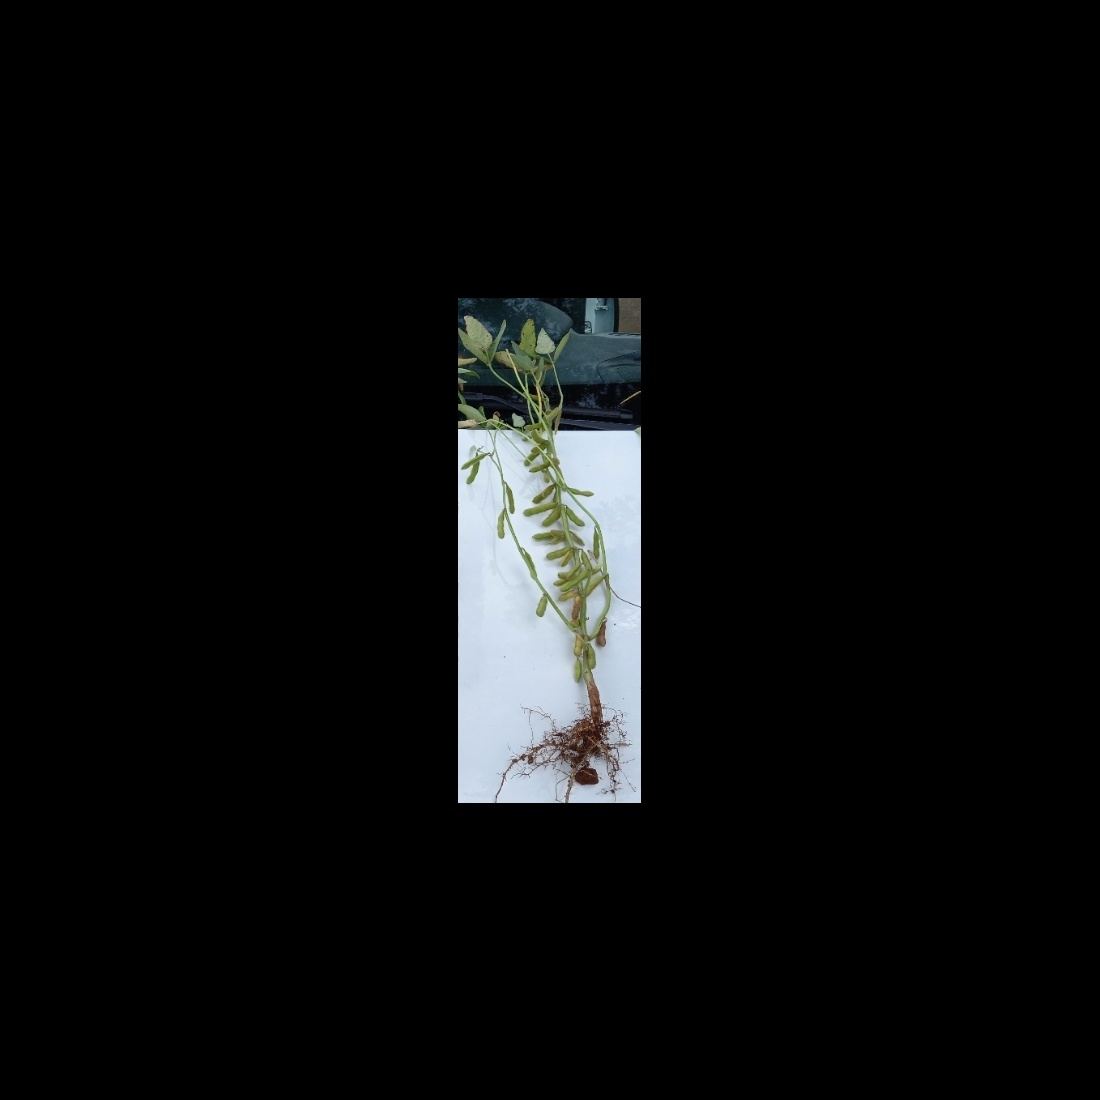pod: (558, 572, 588, 594), (564, 504, 587, 531), (531, 483, 555, 504), (522, 503, 559, 516), (530, 594, 549, 620), (493, 508, 507, 541), (544, 545, 569, 561), (589, 528, 601, 560), (569, 485, 596, 499), (596, 618, 608, 650), (506, 484, 516, 514)
soy: (466, 318, 629, 784)
